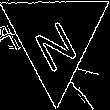N_NW: (29, 5, 82, 70)
